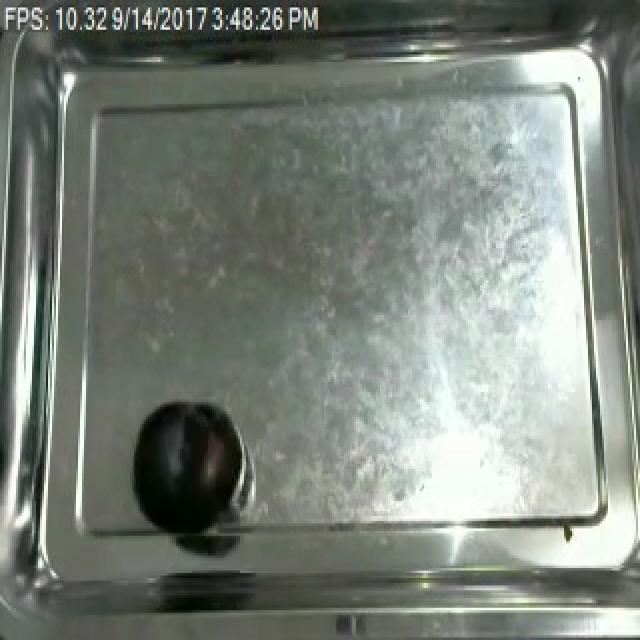Fruit: (128, 397, 238, 536)
